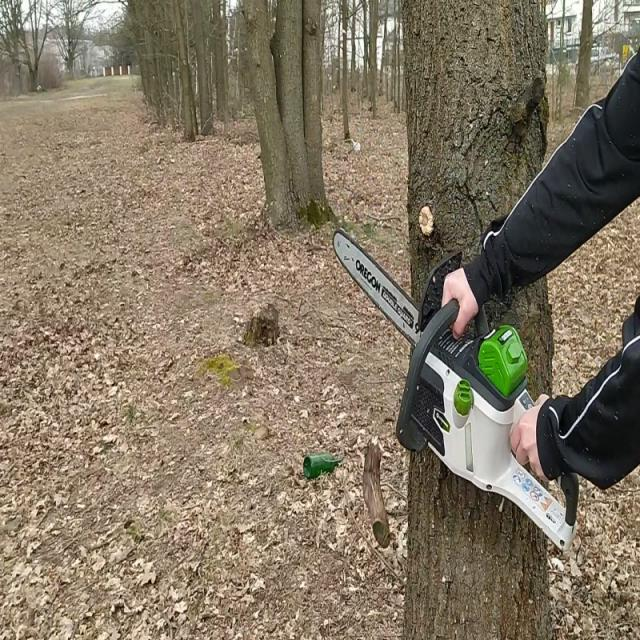Chainsaw: (327, 227, 582, 555)
